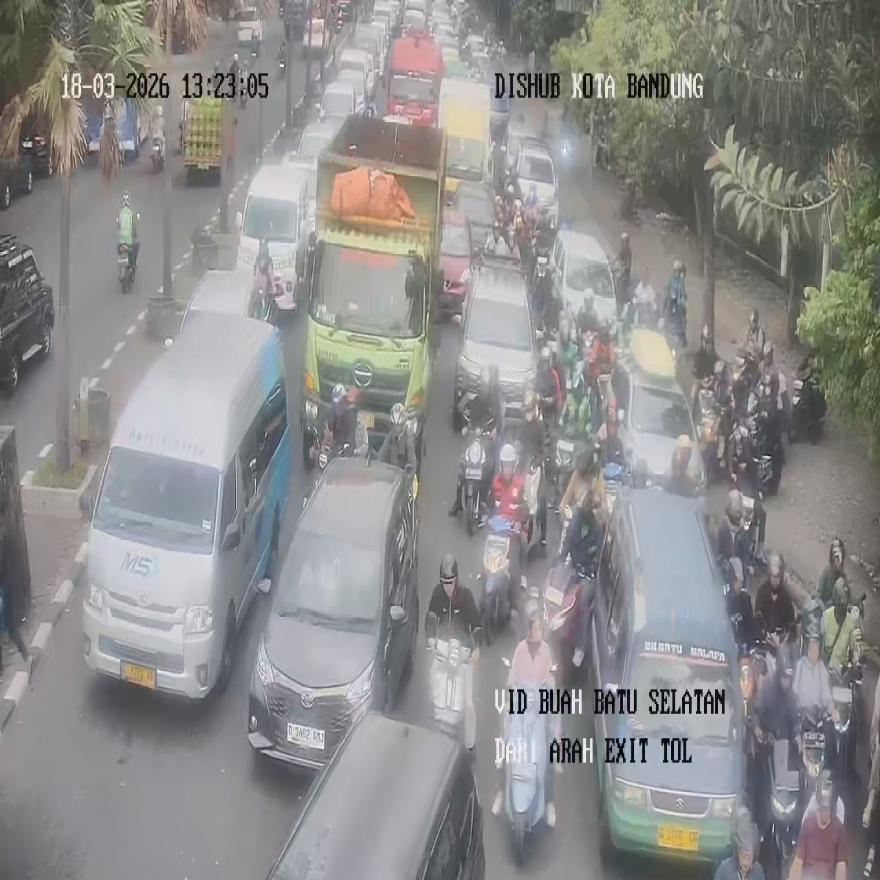Bis: (80, 313, 291, 698)
Motor: (587, 485, 745, 864), (246, 452, 416, 771), (265, 710, 484, 879), (453, 250, 537, 431), (0, 233, 54, 392)
Truk: (495, 655, 560, 864), (543, 558, 594, 684), (760, 732, 803, 878), (428, 632, 476, 759), (480, 516, 522, 647), (459, 421, 495, 536), (829, 664, 862, 781), (694, 385, 722, 484), (789, 373, 827, 442), (524, 455, 542, 556), (116, 241, 137, 292), (151, 134, 165, 173)
